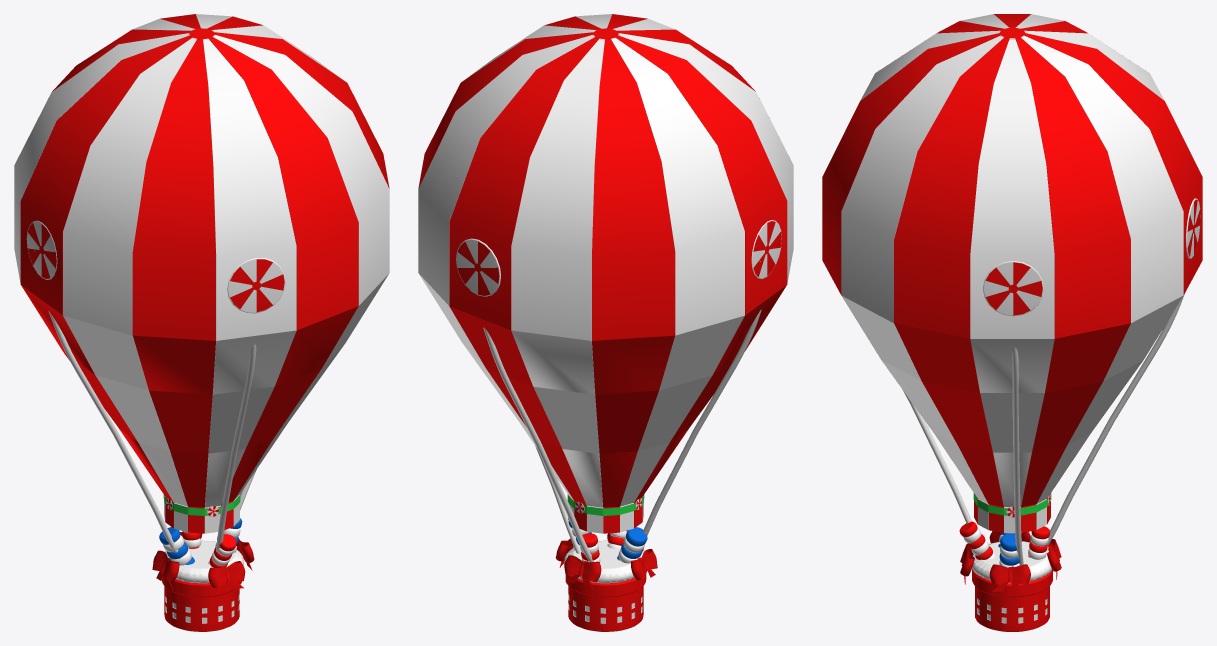
The model's file is ballon.FBX.
3 renders of one model, left to right at view 1: azimuth 30°, elevation 25°; view 2: azimuth 150°, elevation 25°; view 3: azimuth 270°, elevation 25°, orthographic.
Visible parts, largest first — view 1: Sphere001, Shape002, Shape001, Line004, Cylinder012, Plane004, Shape003, Cylinder013, Plane006; view 2: Sphere001, Shape002, Line004, Shape001, Cylinder012, Plane003, Shape003, Plane006; view 3: Sphere001, Shape002, Line004, Shape001, Cylinder013, Plane005, Shape003, Cylinder014, Cylinder011.
Part boxes in pixels (x1,y1,x2,y2): Sphere001: (14,14,389,533); Shape002: (162,540,243,631); Shape001: (26,220,285,313); Line004: (48,311,256,558); Cylinder012: (159,527,194,565); Plane004: (208,561,245,587); Shape003: (163,494,240,516); Cylinder013: (208,534,236,568); Plane006: (152,550,179,581); Sphere001: (418,14,793,533); Shape002: (564,540,646,631); Line004: (483,309,761,562); Shape001: (456,220,781,296); Cylinder012: (617,527,647,563); Plane003: (564,555,601,581); Shape003: (567,494,644,515); Plane006: (631,549,657,580); Sphere001: (822,14,1202,533); Shape002: (972,541,1052,631); Line004: (902,293,1184,565); Shape001: (983,198,1200,316); Cylinder013: (959,521,996,559); Plane005: (989,564,1030,584); Shape003: (973,493,1051,517); Cylinder014: (999,533,1019,567); Cylinder011: (1028,526,1049,559).
Size of the model in its own units: 62.73 by 109 by 64.11.
